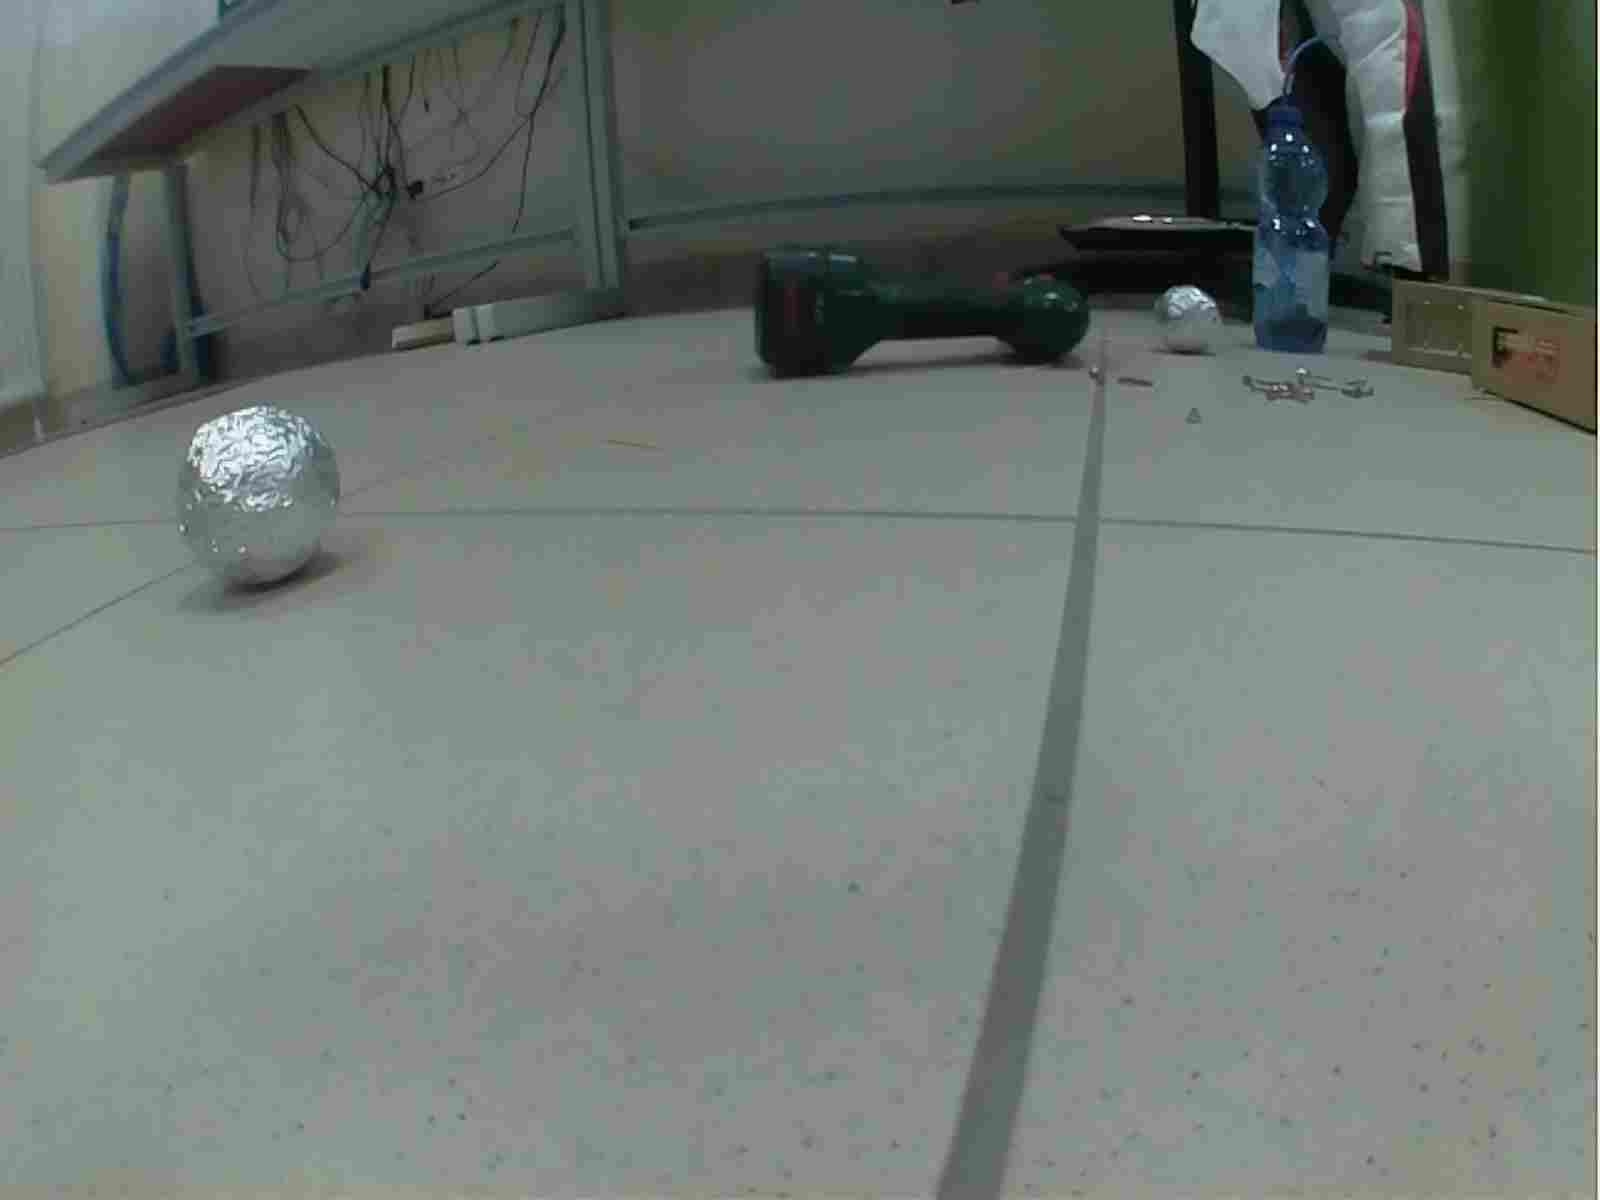bianca: (176, 402, 344, 594), (1149, 284, 1217, 355)
